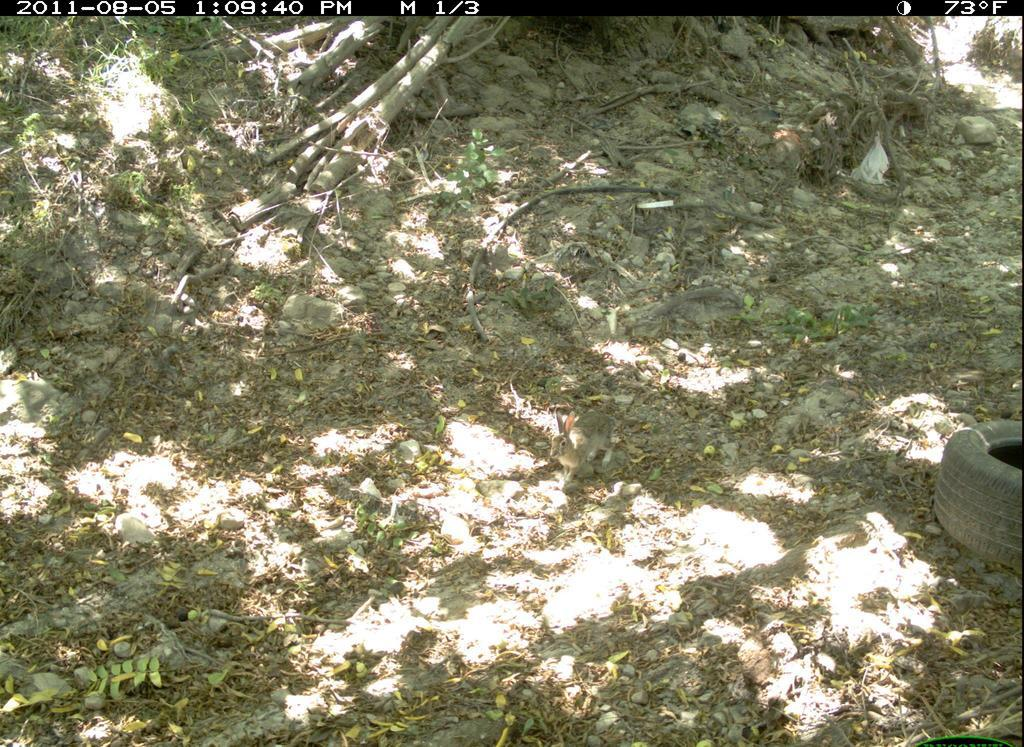rabbit: (541, 392, 648, 487)
